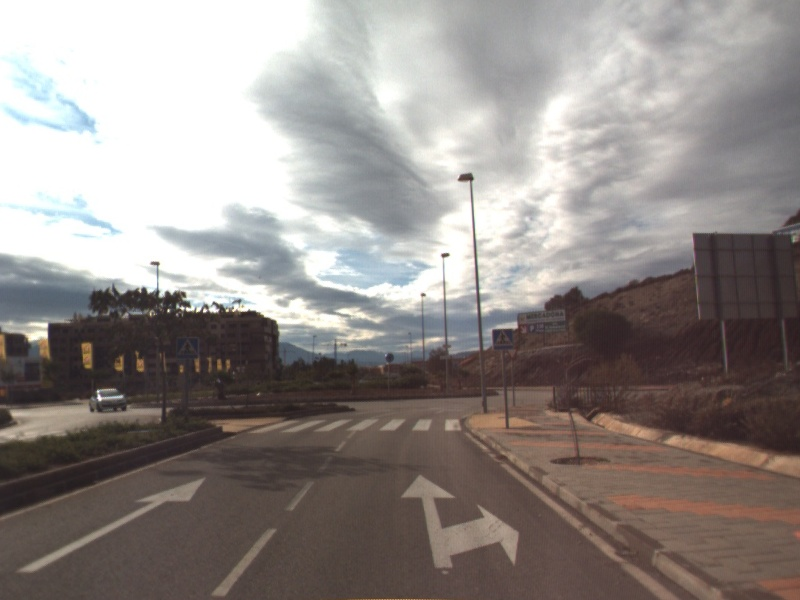STRAIGHT: (14, 475, 208, 575)
STRAIGHT_RIGHT: (399, 472, 521, 570)
